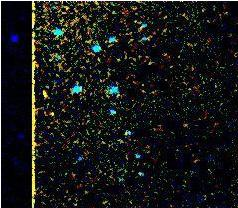star: (32, 76, 62, 106)
